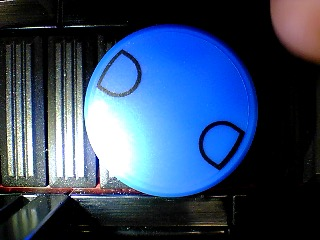MIPO2: (83, 24, 259, 198)
